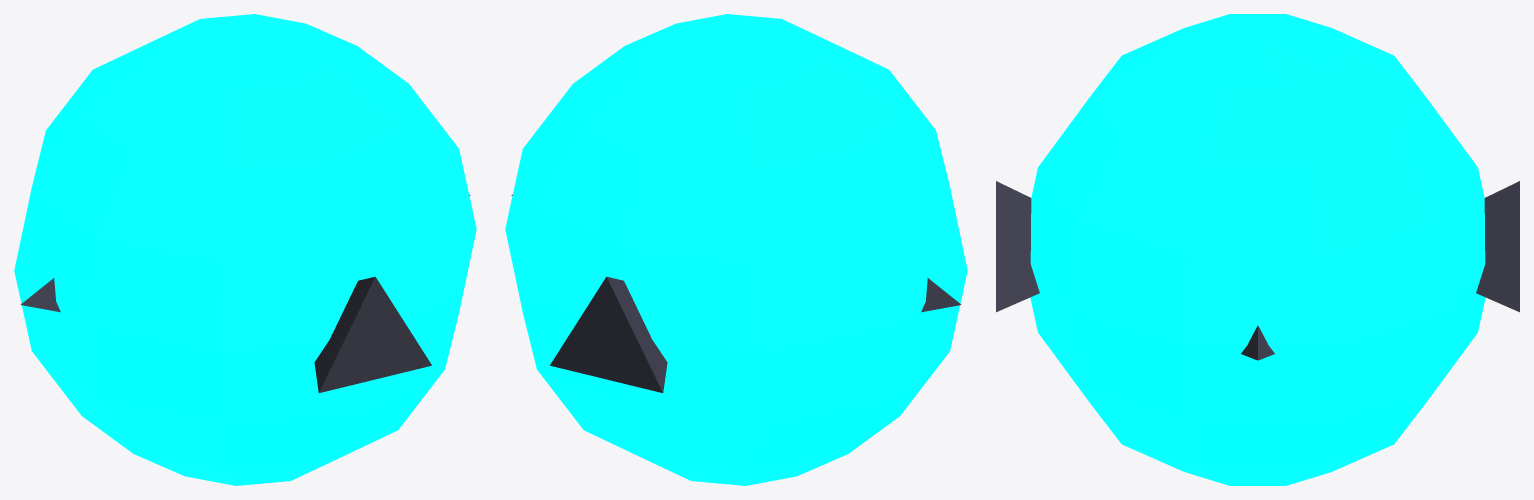
The model's file is enemy_basic.glb.
3 renders of one model, left to right at view 1: azimuth 30°, elevation 25°; view 2: azimuth 150°, elevation 25°; view 3: azimuth 270°, elevation 25°, orthographic.
Visible parts, largest first — view 1: enemy_basic; view 2: enemy_basic; view 3: enemy_basic.
Boxes of the visible parts, x1,y1,x2,y2 form: enemy_basic: (14,14,476,485); enemy_basic: (505,14,967,485); enemy_basic: (996,14,1519,485).
Size of the model in its own units: 0.55 by 0.5 by 0.55.
